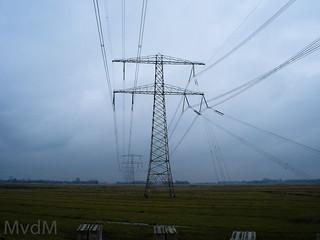power_tower: (106, 45, 212, 204)
